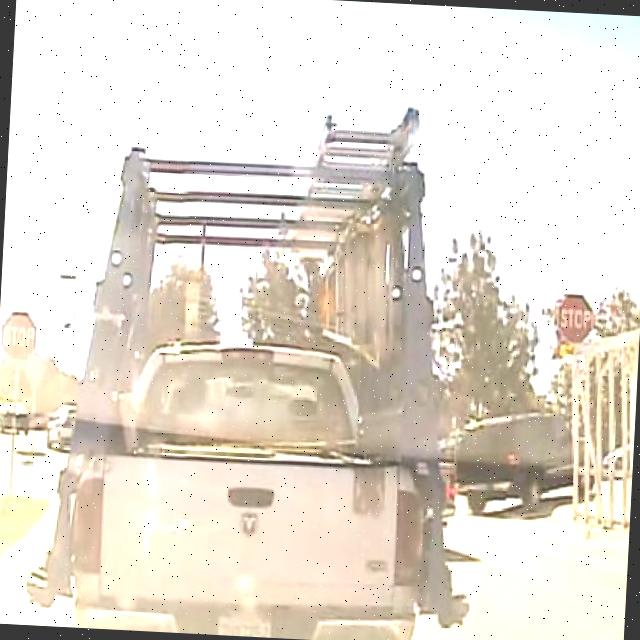Stop: (555, 292, 597, 342), (0, 311, 38, 365)
